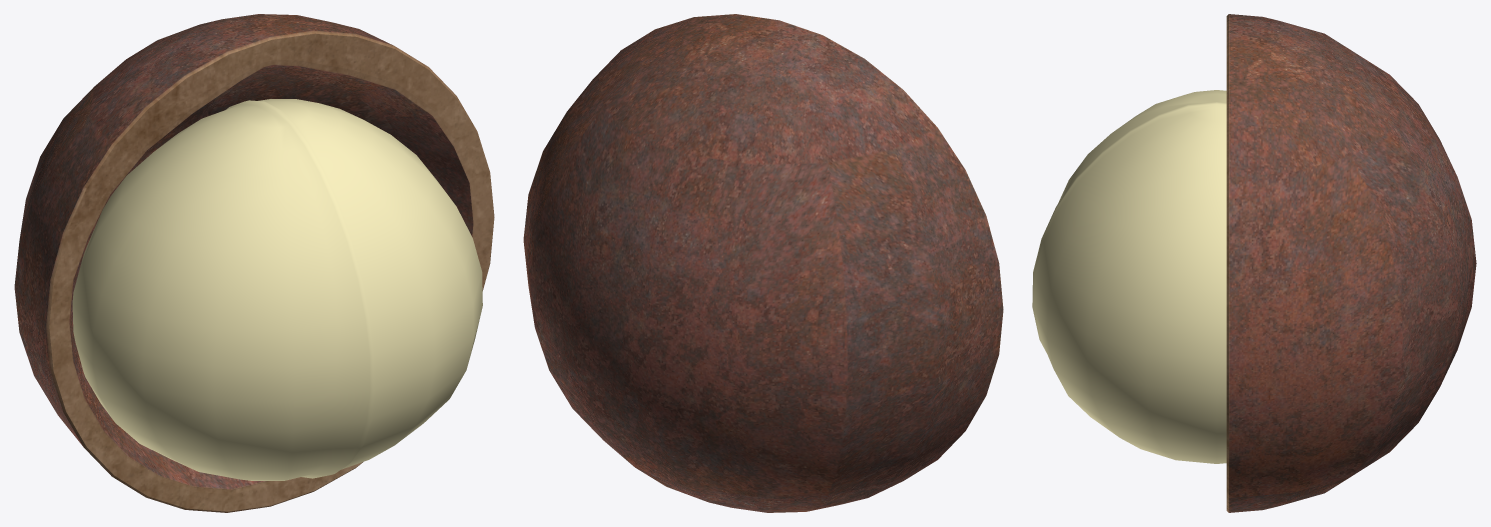
The model's file is makadamia.fbx.
3 views of the same model, side by side, from view 1: azimuth 30°, elevation 25°; view 2: azimuth 150°, elevation 25°; view 3: azimuth 270°, elevation 25° (orthographic). The views are drawn at different scales.
Visible parts, largest first — view 1: mi2; view 2: mi2; view 3: mi2.
Boxes of the visible parts, box(x1,y1,x2,y2) form: mi2: box(14, 14, 494, 512); mi2: box(523, 14, 1003, 512); mi2: box(1032, 14, 1476, 512).
Size of the model in its own units: 3.14 by 3.14 by 2.8.
Materials: 2 (2 with a texture image).
